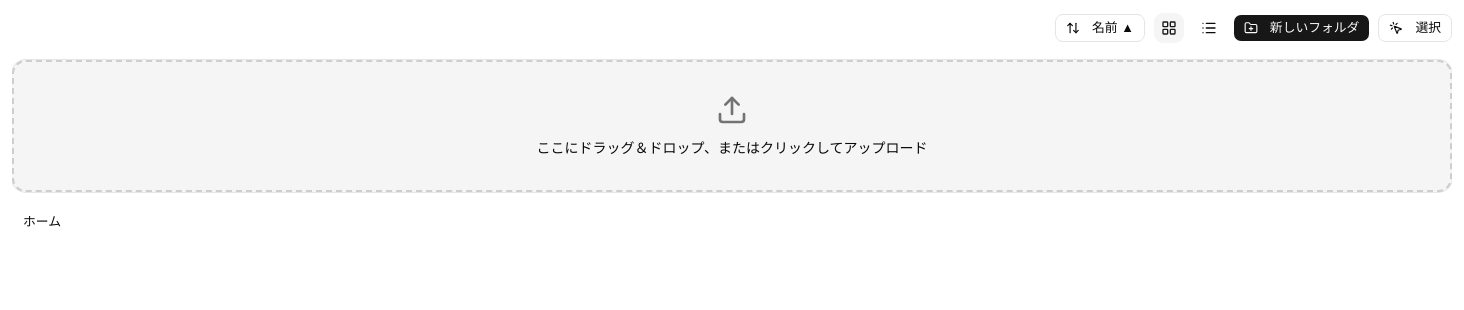
Test case: FileBrowser › グリッド表示ではソートメニューを表示し、テーブル表示では隠す
Check: the button "名前 ▲" is shown, box [1055, 14, 1145, 42]
Click the button named "テーブル表示" at (1209, 28), box [1193, 12, 1225, 44]
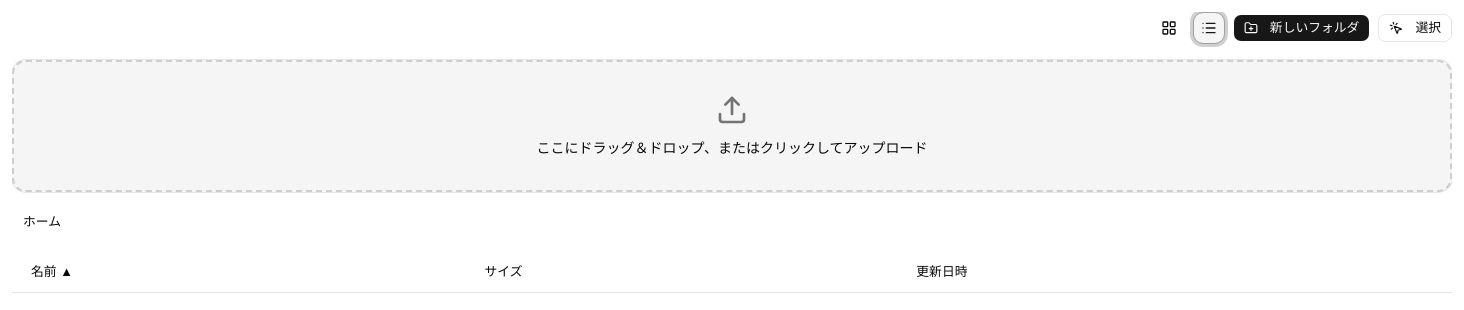
Check: the icon with class "lucide-arrow-up-down" is gone
